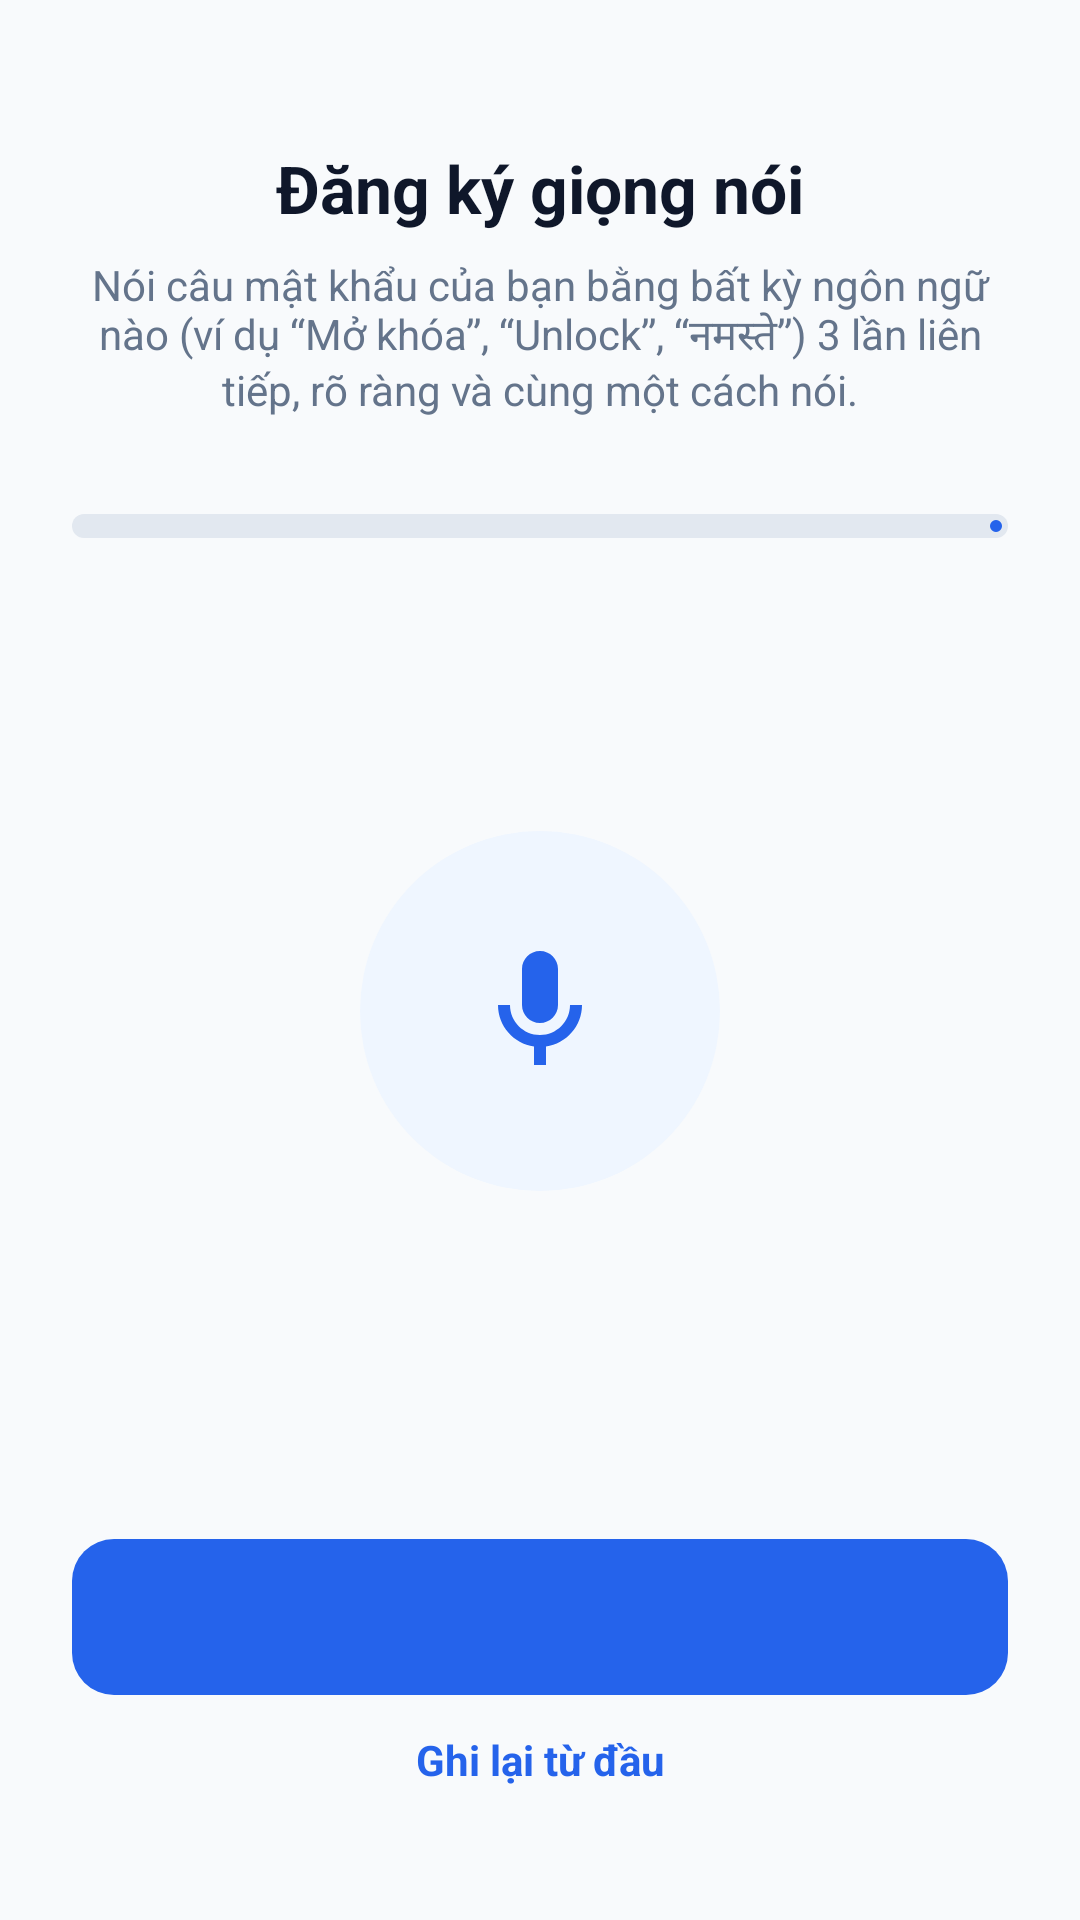

Screen size 1080×1920. Icon name, then its box in pixels as rect(x1, y1, x2, y2):
Ghi âm mẫu giọng: rect(360, 831, 720, 1191)
